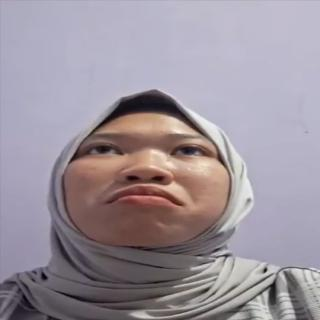Sedih: (54, 114, 242, 256)
